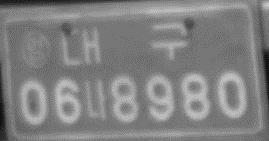0: (216, 69, 249, 120), (17, 77, 49, 126)
6: (52, 77, 82, 123)
8: (180, 72, 212, 120), (110, 74, 140, 125)
9: (143, 73, 175, 124)
나: (84, 79, 108, 122)
대구_D: (59, 21, 191, 69)
영: (19, 31, 54, 69)
